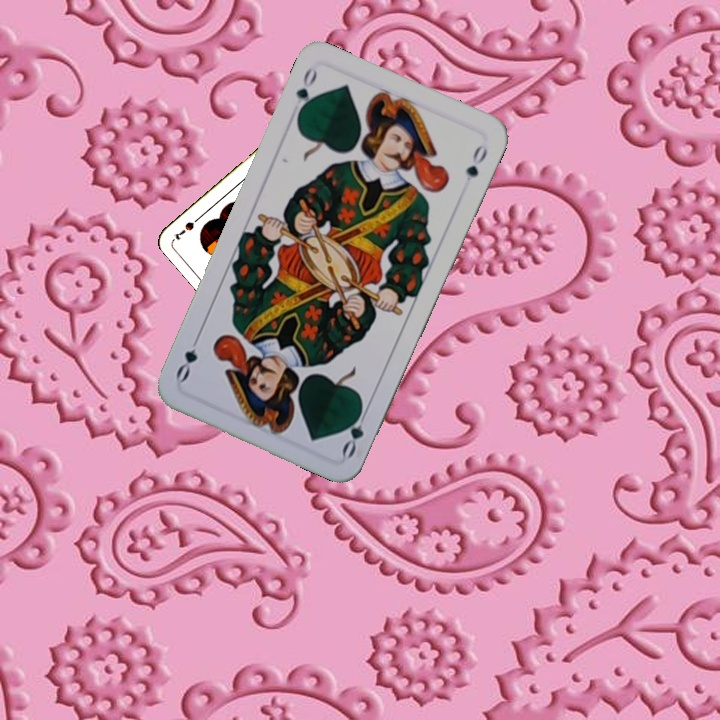GO: (337, 401, 372, 460), (291, 62, 320, 121)
